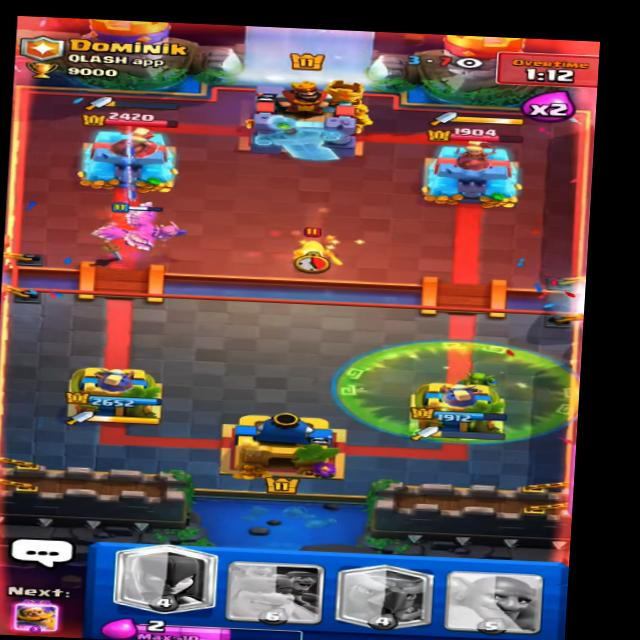bandit: (282, 225, 345, 270)
